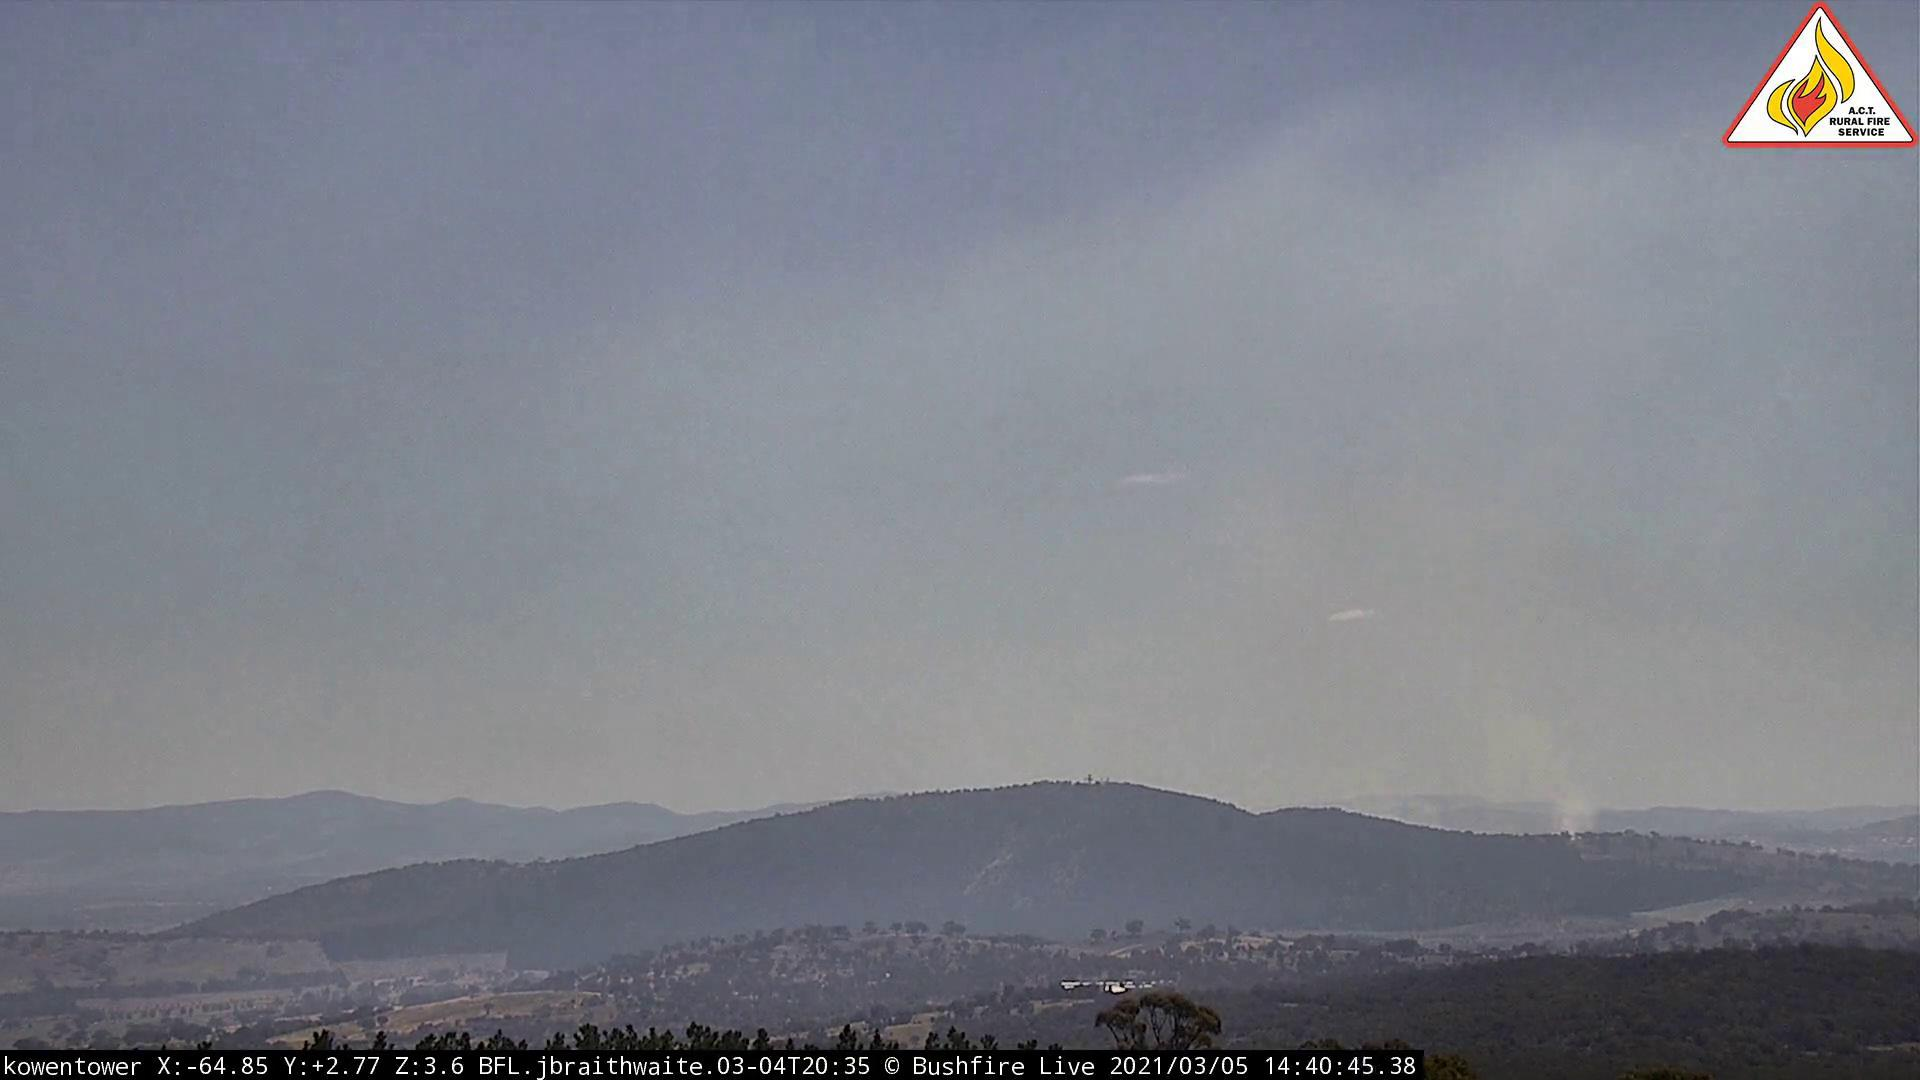Smoke: (1389, 613, 1600, 855)
